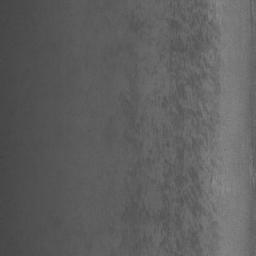Silk spot: (104, 0, 233, 256)
